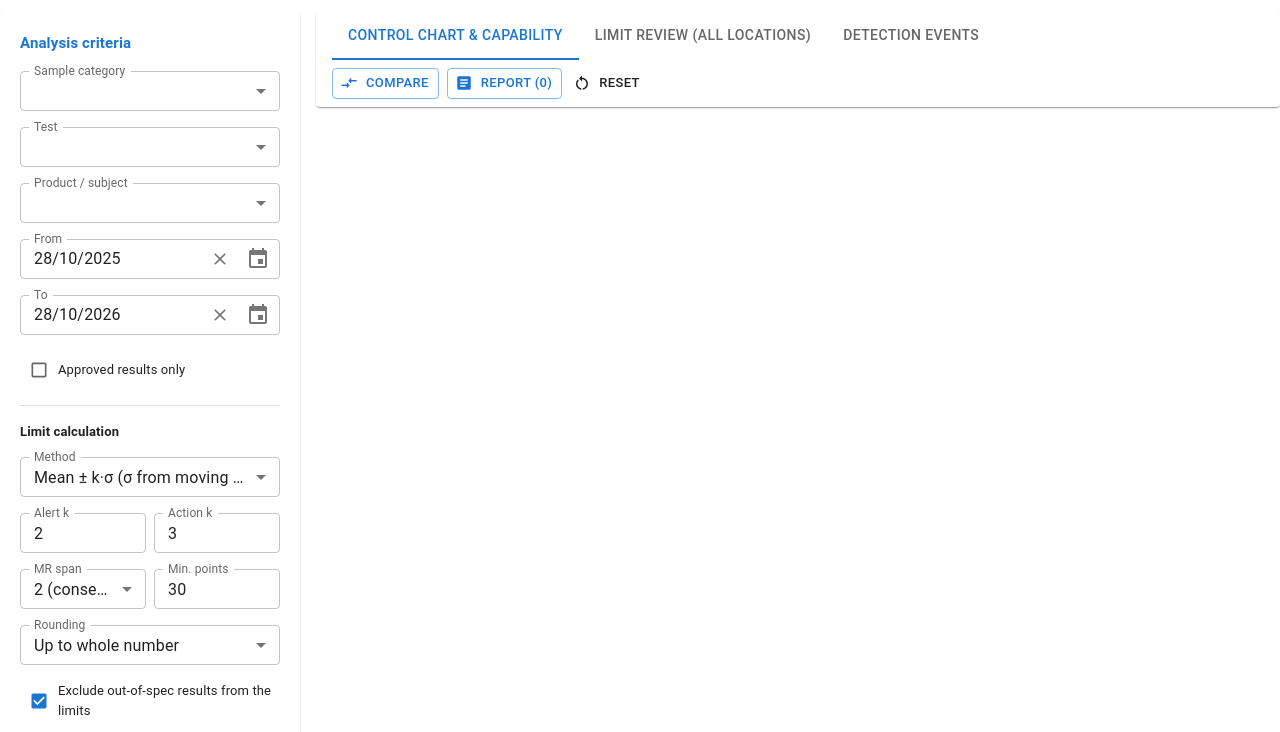
Scenario: ControlChartTab session state › reopens on the criteria kept for the session, and Reset clears them
Click the button "Reset" at point(608, 83), box [570,68,645,99]
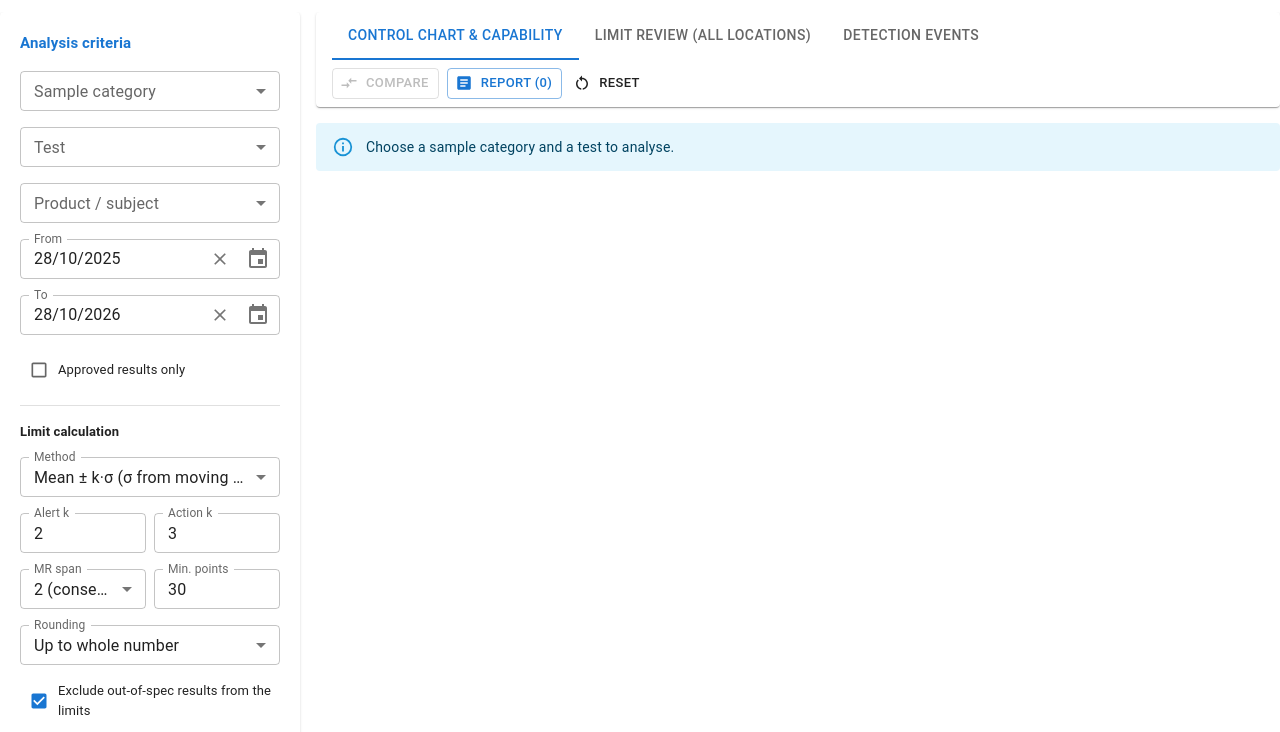
Check: the text "Choose a sample category and a test to analyse." is shown, box [366,139,674,155]
